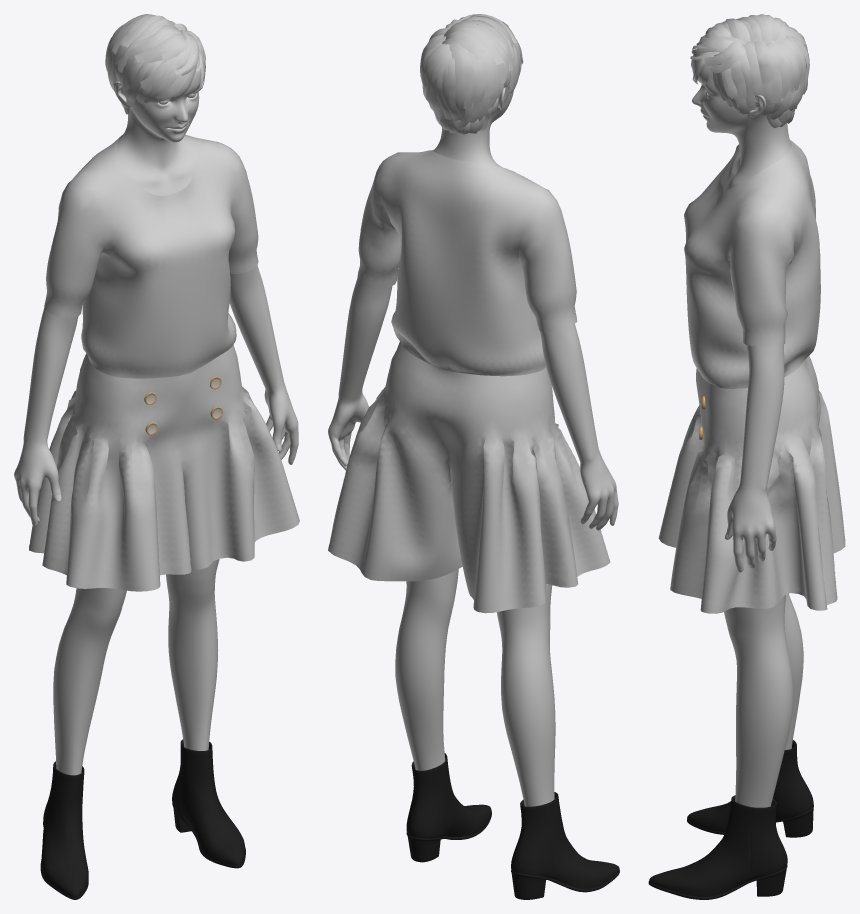
Rendered from ACL-001_FrillShort_ShortBoots_r.FBX.
3 views of the same model, side by side, from view 1: azimuth 30°, elevation 25°; view 2: azimuth 150°, elevation 25°; view 3: azimuth 270°, elevation 25° (orthographic). The views are drawn at different scales.
Parts seen in each view (by area): view 1: PT_0320, Body, pattern_ACL_001, ShortBoots; view 2: PT_0320, Body, pattern_ACL_001, ShortBoots; view 3: Body, PT_0320, pattern_ACL_001, ShortBoots.
Part boxes in pixels (x1=…): PT_0320: x1=29, y1=345, x2=299, y2=591; Body: x1=14, y1=14, x2=298, y2=775; pattern_ACL_001: x1=44, y1=134, x2=258, y2=378; ShortBoots: x1=40, y1=739, x2=245, y2=899; PT_0320: x1=328, y1=341, x2=610, y2=613; Body: x1=328, y1=14, x2=618, y2=806; pattern_ACL_001: x1=357, y1=149, x2=577, y2=376; ShortBoots: x1=406, y1=753, x2=619, y2=899; Body: x1=690, y1=14, x2=809, y2=807; PT_0320: x1=658, y1=356, x2=845, y2=613; pattern_ACL_001: x1=684, y1=139, x2=820, y2=388; ShortBoots: x1=648, y1=740, x2=813, y2=899.
Size of the model in its own units: 59.19 by 171 by 35.48.
